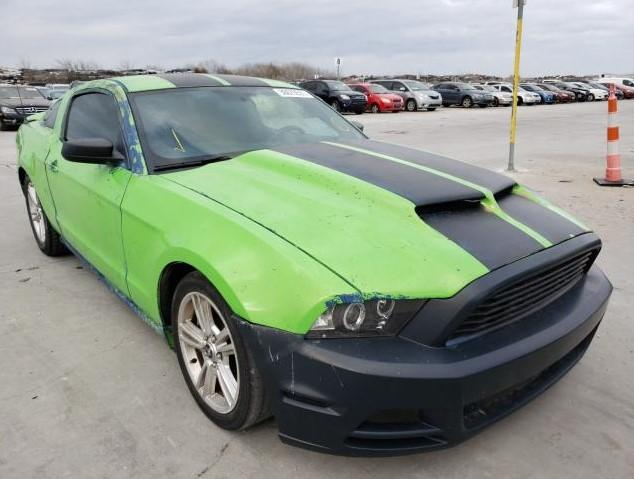Back-wheel: (24, 175, 71, 256)
Back-window: (41, 99, 61, 129)
Fender: (122, 173, 368, 335)
Front-bumper: (232, 264, 613, 457)
Front-door: (44, 79, 149, 301)
Front-wheel: (171, 270, 275, 429)
Front-window: (63, 92, 129, 159)
Grille: (400, 232, 601, 348)
Headlight: (306, 299, 427, 338)
Hood: (158, 138, 591, 299)
Mirror: (61, 136, 126, 166), (349, 121, 363, 132)
Quarter-panel: (16, 124, 62, 237)
Rocker-panel: (59, 235, 167, 341)
Roof: (106, 73, 299, 92)
Trunk: (26, 112, 47, 125)
Windshield: (126, 86, 368, 174)
